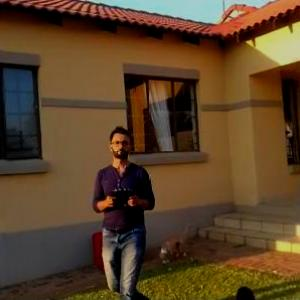follow: (90, 121, 161, 299)
null: (156, 215, 196, 267)
